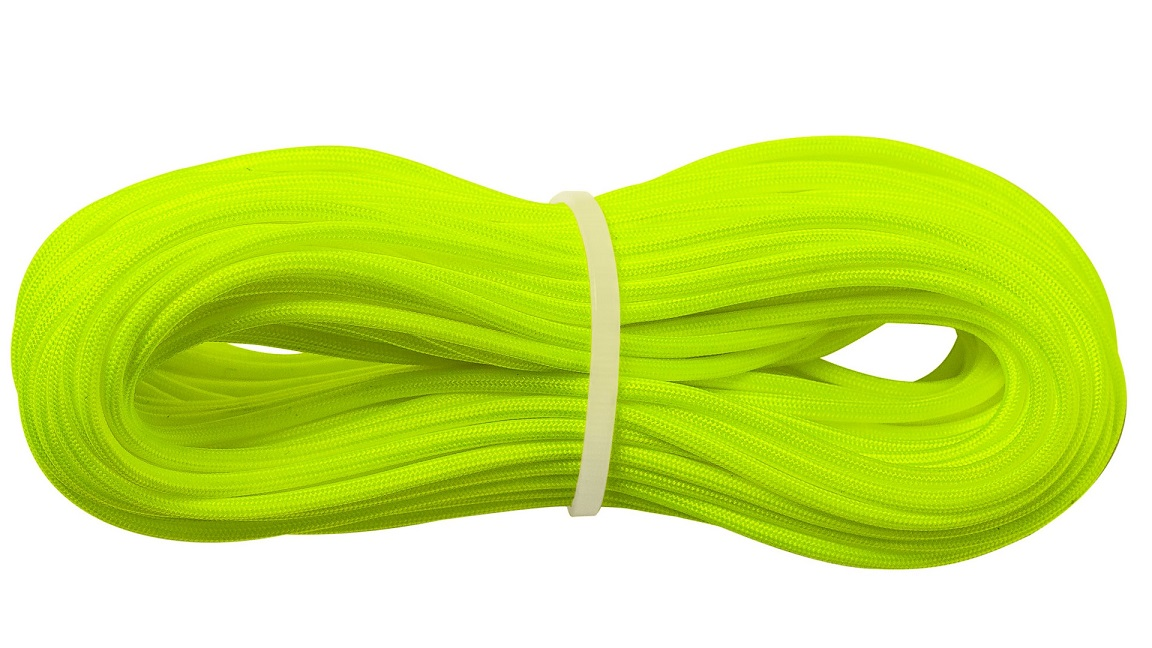Nonrec_Tangler: (3, 122, 1133, 581)
